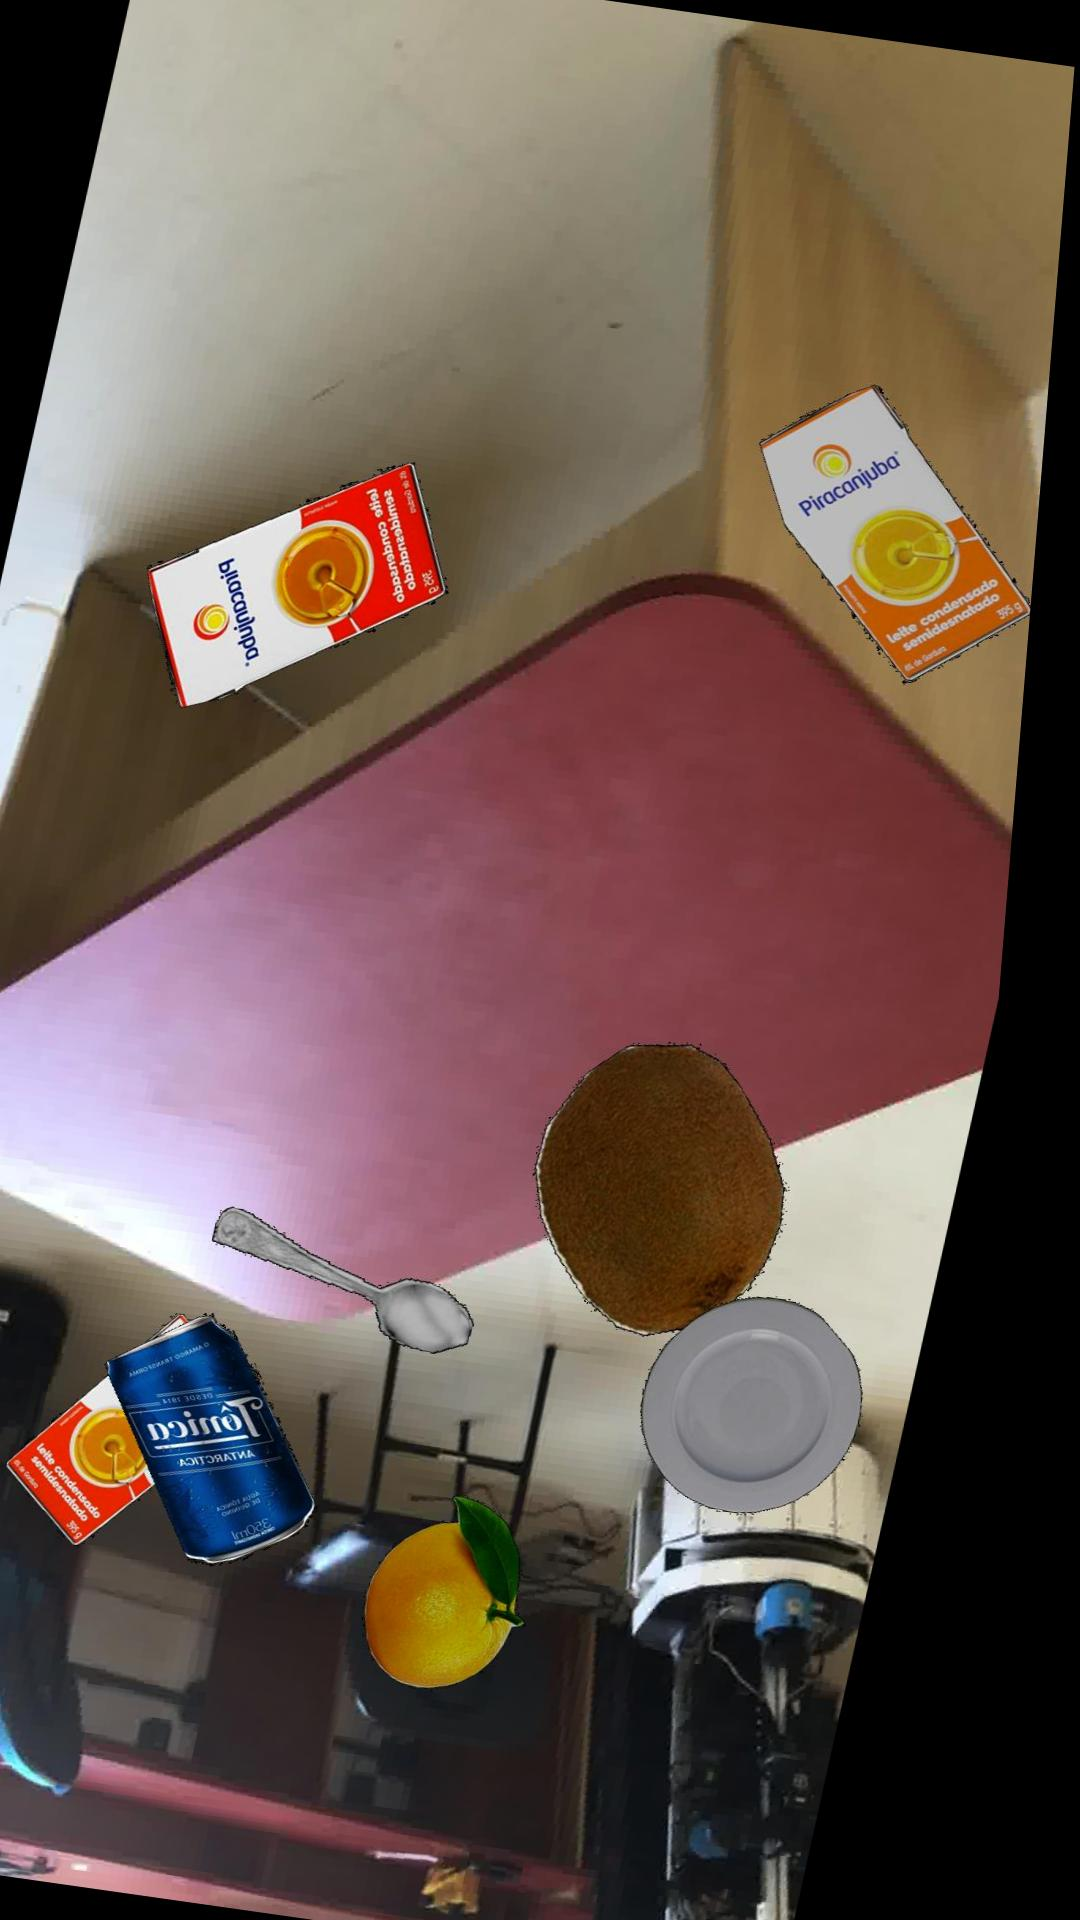kiwi: (551, 1043, 804, 1337)
orange: (389, 1497, 551, 1689)
plate: (663, 1298, 885, 1514)
spoon: (232, 1208, 495, 1354)
tonic: (128, 1313, 342, 1567)
